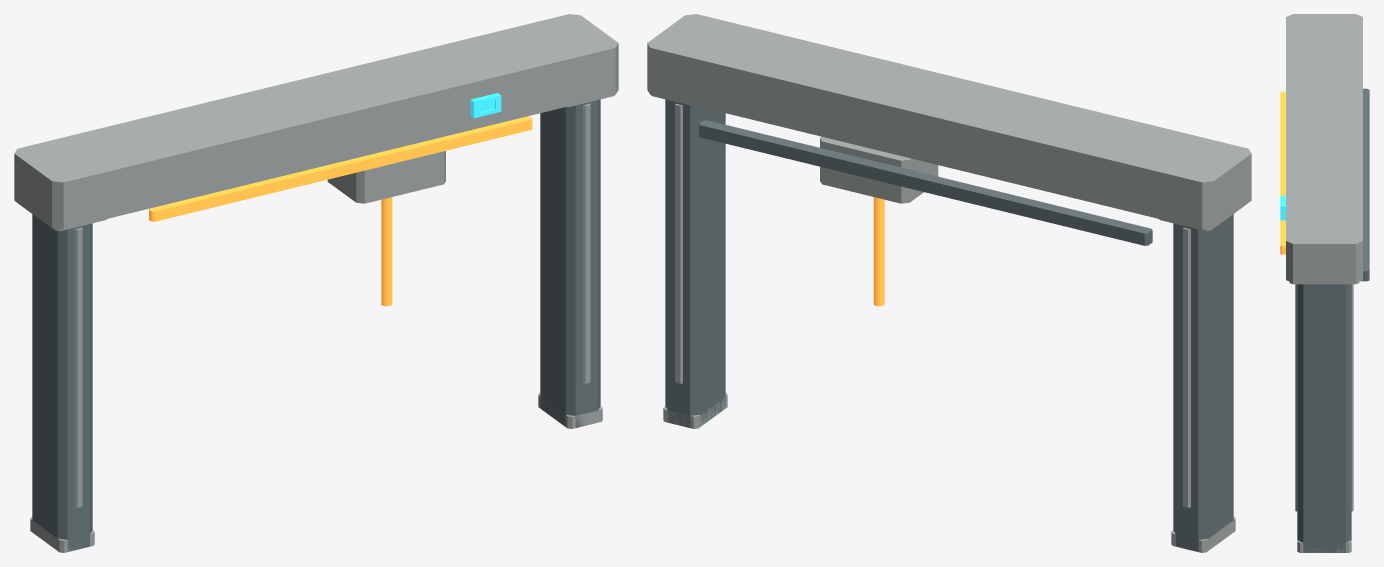
Rendered from refinery-smelter-gantry-lod0.glb.
3 views of the same model, side by side, from view 1: azimuth 30°, elevation 25°; view 2: azimuth 150°, elevation 25°; view 3: azimuth 270°, elevation 25° (orthographic). The views are drawn at different scales.
Visible parts, largest first — view 1: refinery-smelter-gantry-beam, refinery-smelter-gantry-left, refinery-smelter-gantry-right, refinery-smelter-gantry-hazard, refinery-smelter-gantry-carriage, refinery-smelter-gantry-rib-left, refinery-smelter-gantry-rib-right, refinery-smelter-gantry-drop-line; view 2: refinery-smelter-gantry-beam, refinery-smelter-gantry-left, refinery-smelter-gantry-right, refinery-smelter-gantry-service-rail, refinery-smelter-gantry-carriage, refinery-smelter-gantry-rib-left, refinery-smelter-gantry-rib-right, refinery-smelter-gantry-drop-line, refinery-smelter-gantry-foot-right; view 3: refinery-smelter-gantry-beam, refinery-smelter-gantry-right, refinery-smelter-gantry-rib-right, refinery-smelter-gantry-service-rail, refinery-smelter-gantry-hazard, refinery-smelter-gantry-foot-right, refinery-smelter-gantry-status, refinery-smelter-gantry-cap-right.
Part boxes in pixels (x1=…): refinery-smelter-gantry-beam: x1=14, y1=14, x2=618, y2=229; refinery-smelter-gantry-left: x1=32, y1=214, x2=92, y2=551; refinery-smelter-gantry-right: x1=540, y1=99, x2=600, y2=427; refinery-smelter-gantry-hazard: x1=149, y1=116, x2=532, y2=221; refinery-smelter-gantry-carriage: x1=327, y1=151, x2=445, y2=203; refinery-smelter-gantry-rib-left: x1=75, y1=227, x2=82, y2=507; refinery-smelter-gantry-rib-right: x1=583, y1=103, x2=590, y2=383; refinery-smelter-gantry-drop-line: x1=381, y1=197, x2=392, y2=306; refinery-smelter-gantry-beam: x1=647, y1=14, x2=1251, y2=229; refinery-smelter-gantry-left: x1=1173, y1=214, x2=1233, y2=551; refinery-smelter-gantry-right: x1=665, y1=99, x2=725, y2=427; refinery-smelter-gantry-service-rail: x1=699, y1=120, x2=1152, y2=245; refinery-smelter-gantry-carriage: x1=820, y1=136, x2=938, y2=203; refinery-smelter-gantry-rib-left: x1=1183, y1=227, x2=1190, y2=507; refinery-smelter-gantry-rib-right: x1=675, y1=103, x2=682, y2=383; refinery-smelter-gantry-drop-line: x1=873, y1=197, x2=884, y2=306; refinery-smelter-gantry-foot-right: x1=663, y1=393, x2=727, y2=428; refinery-smelter-gantry-beam: x1=1286, y1=14, x2=1362, y2=282; refinery-smelter-gantry-right: x1=1297, y1=284, x2=1351, y2=552; refinery-smelter-gantry-rib-right: x1=1295, y1=284, x2=1353, y2=511; refinery-smelter-gantry-service-rail: x1=1361, y1=88, x2=1369, y2=281; refinery-smelter-gantry-hazard: x1=1280, y1=91, x2=1285, y2=254; refinery-smelter-gantry-foot-right: x1=1297, y1=540, x2=1351, y2=552; refinery-smelter-gantry-status: x1=1280, y1=195, x2=1285, y2=220; refinery-smelter-gantry-cap-right: x1=1289, y1=282, x2=1359, y2=284.
Size of the model in its own units: 5.8 by 3.69 by 0.95.
